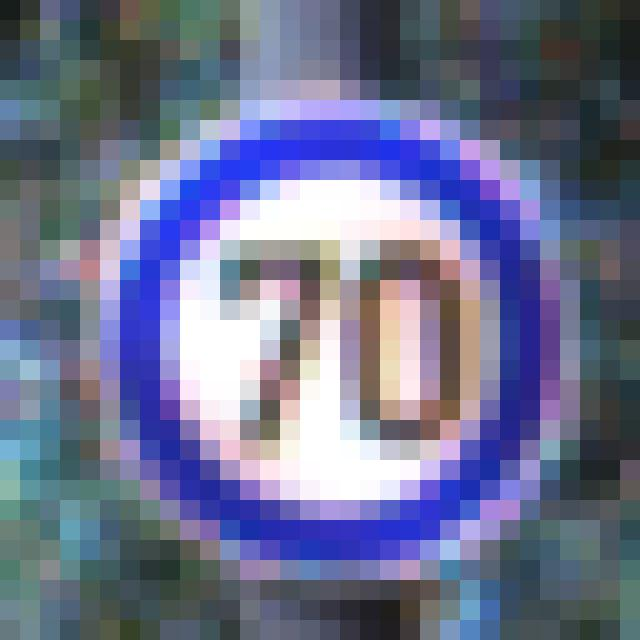SPEED LIMIT 70: (85, 113, 553, 567)
